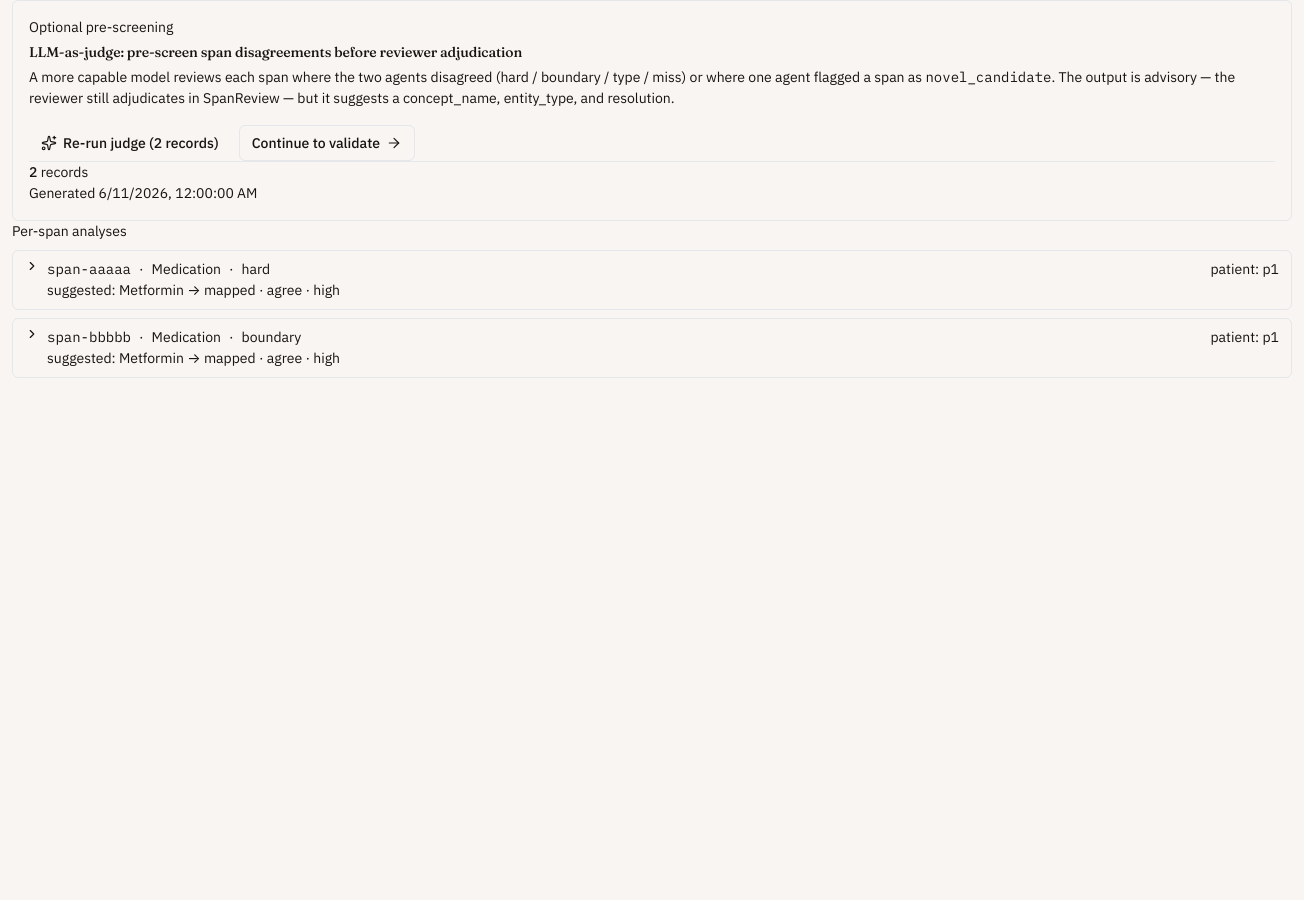
PhaseJudge NER — card expand / collapse › two cards toggle independently
Note: Expand only card one.
Click the text "span-aaaaa": {"x": 89, "y": 270} [47,259,131,280]
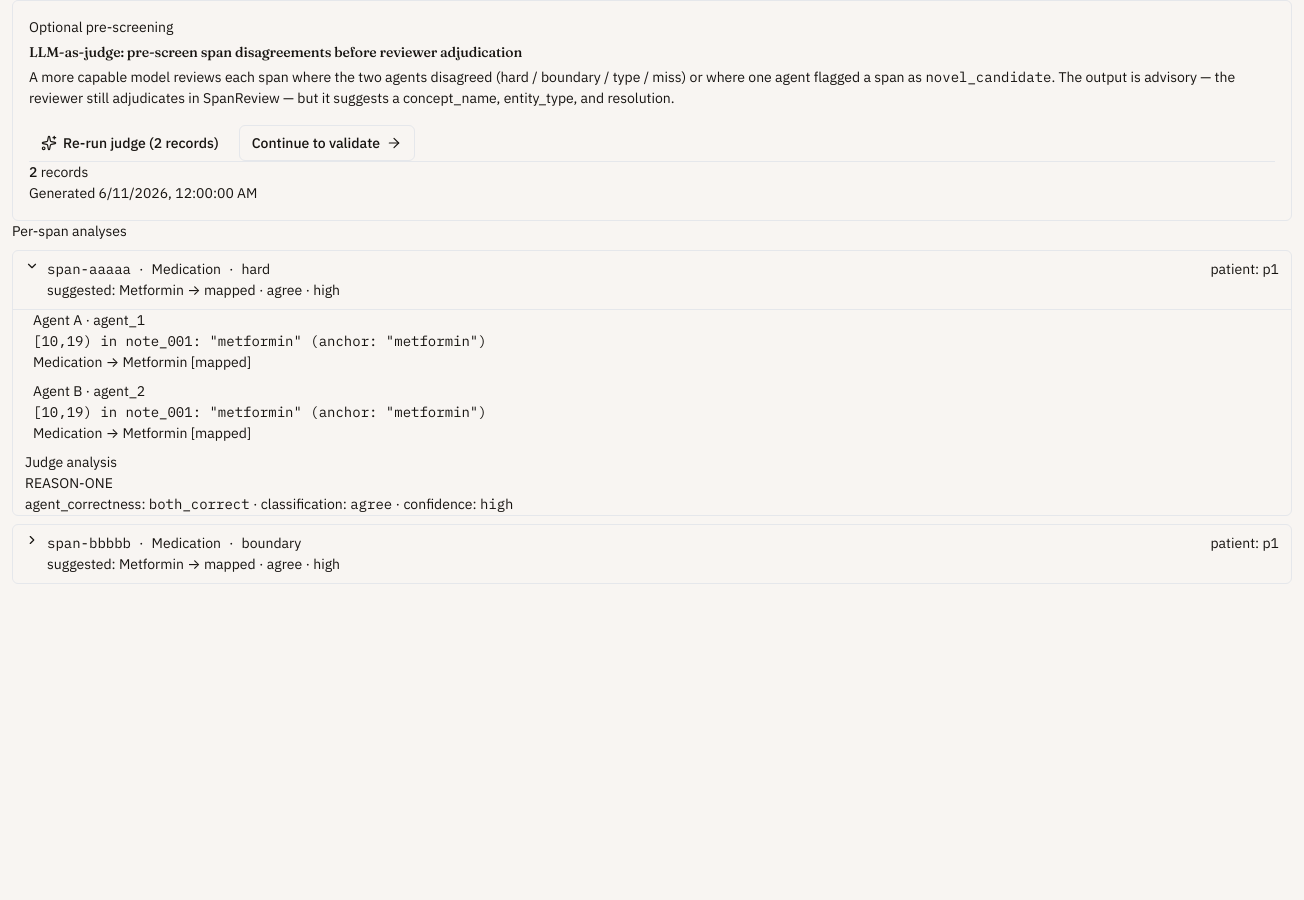
Check: the text "REASON-TWO" is not shown
Check: the text "REASON-ONE" is shown, box [25,474,113,492]
Note: Expand card two — card one stays open (independent state).
Click the text "span-bbbbb": {"x": 89, "y": 544} [47,533,131,554]
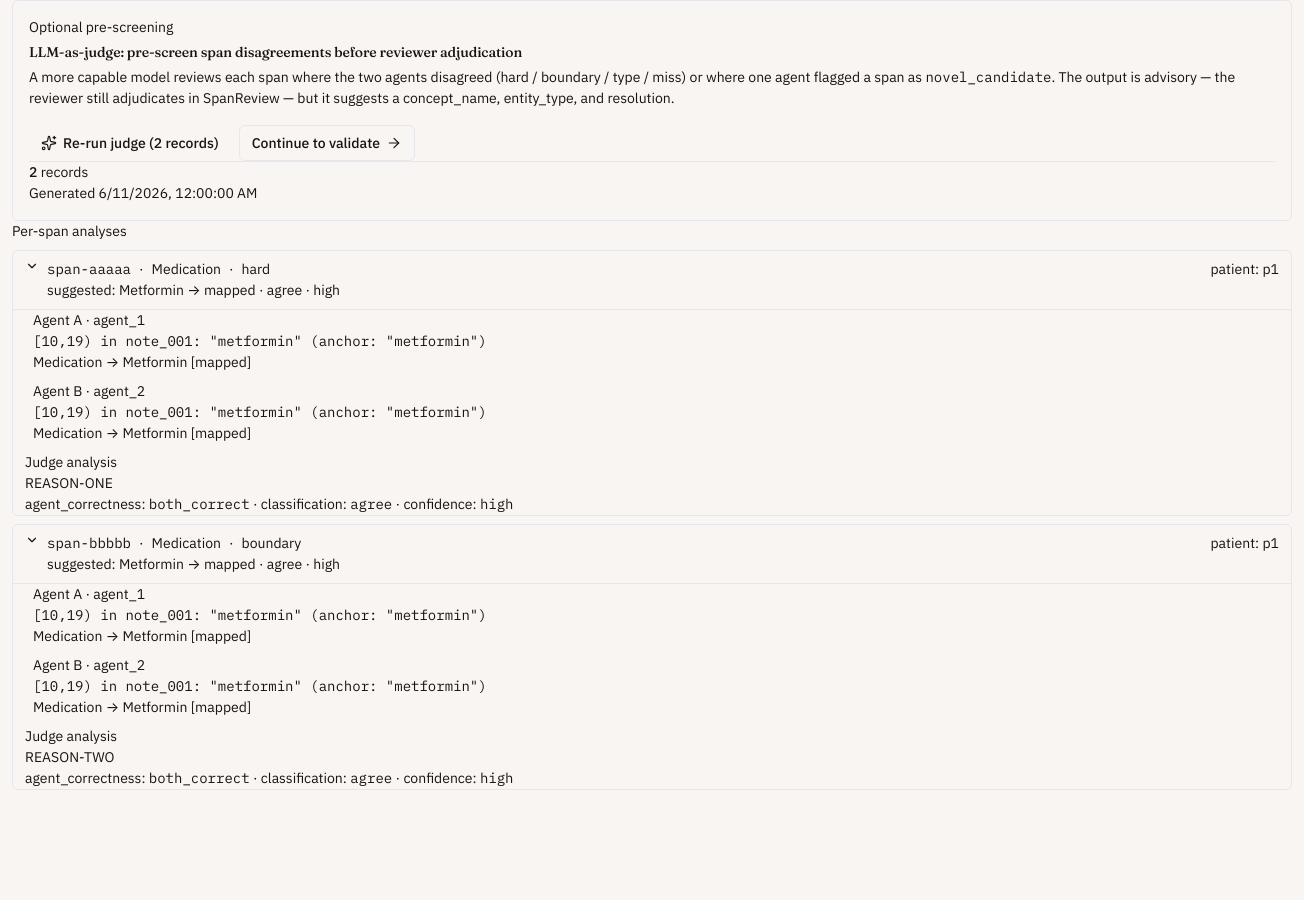
Check: the text "REASON-ONE" is shown, box [25,474,113,492]
Check: the text "REASON-TWO" is shown, box [25,748,114,766]
Note: Collapse card one — card two stays open.
Click the text "span-aaaaa": {"x": 89, "y": 270} [47,259,131,280]
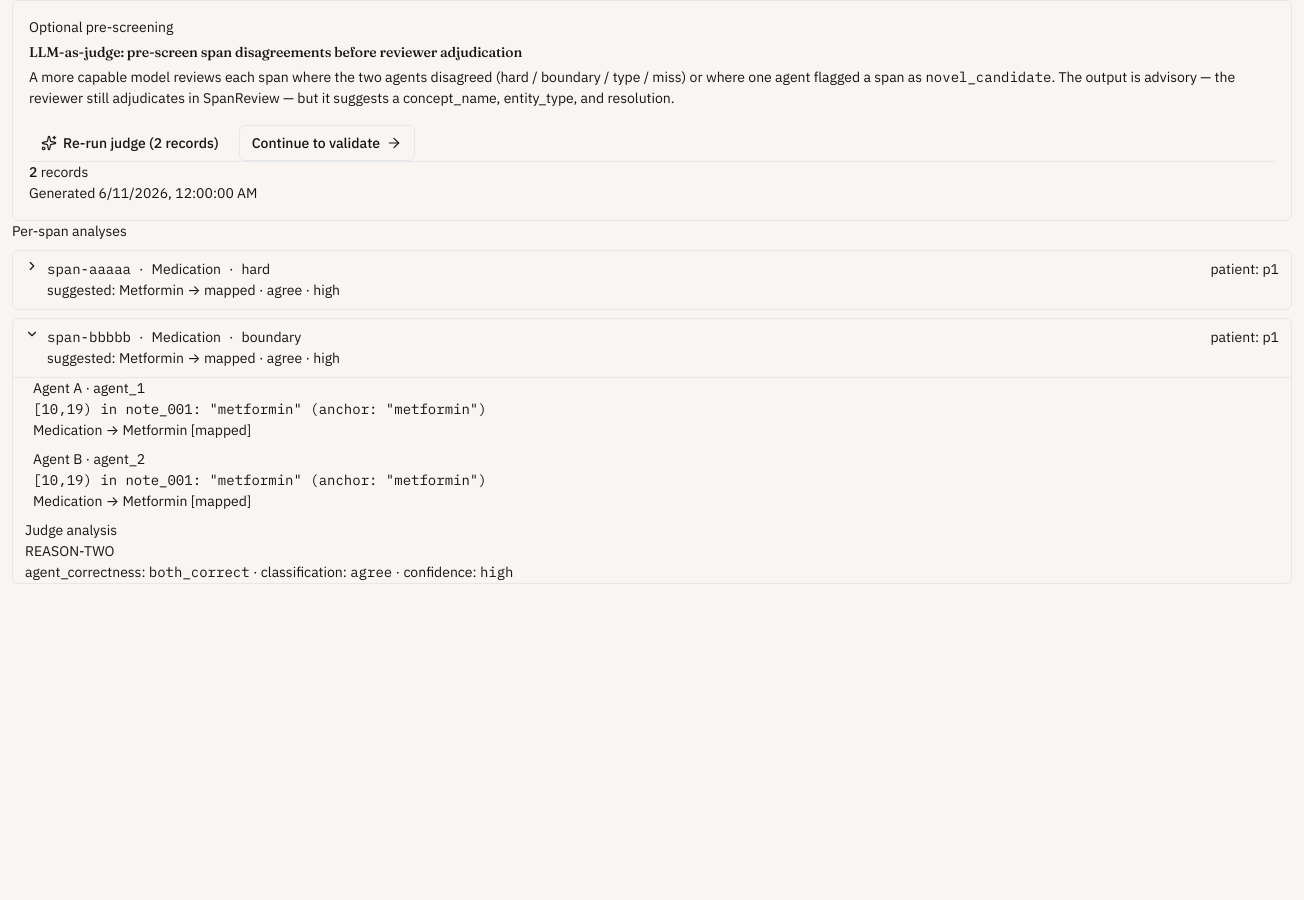
Check: the text "REASON-TWO" is shown, box [25,542,114,560]
Check: the text "REASON-ONE" is gone
